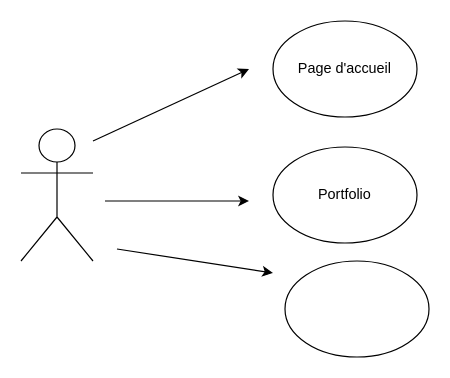
Image size: 450x378. Some labels were removed from this diagram. The centre of each missing label's shape, as x and y in pixels:
"Contact" goes at (x=356, y=308).
"Visiteur" goes at (x=56, y=194).
